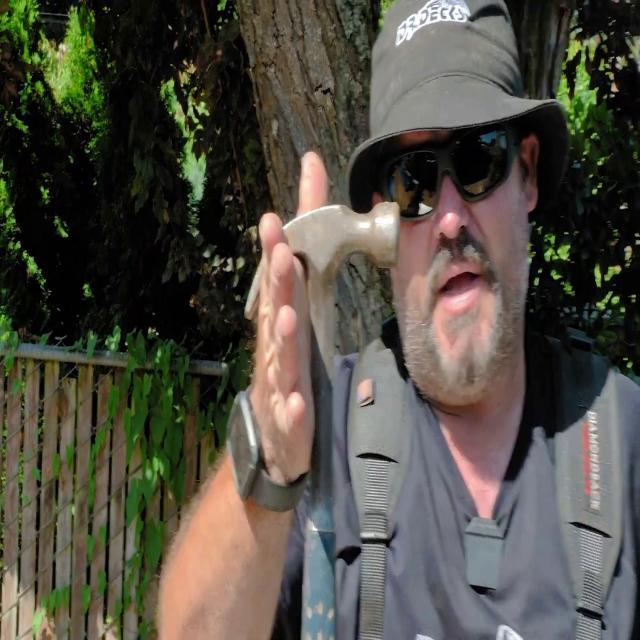hammer: (245, 197, 401, 640)
